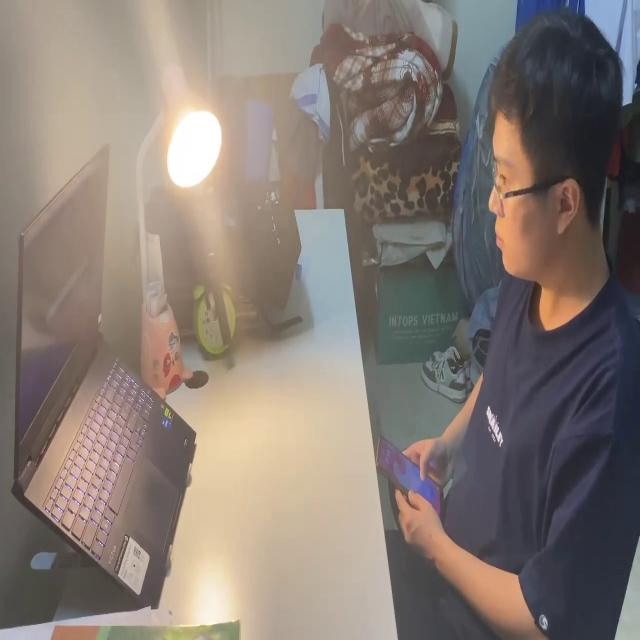book: (2, 597, 240, 640)
laptop: (12, 136, 196, 607)
phone: (373, 421, 450, 534)
student: (376, 0, 640, 640)
